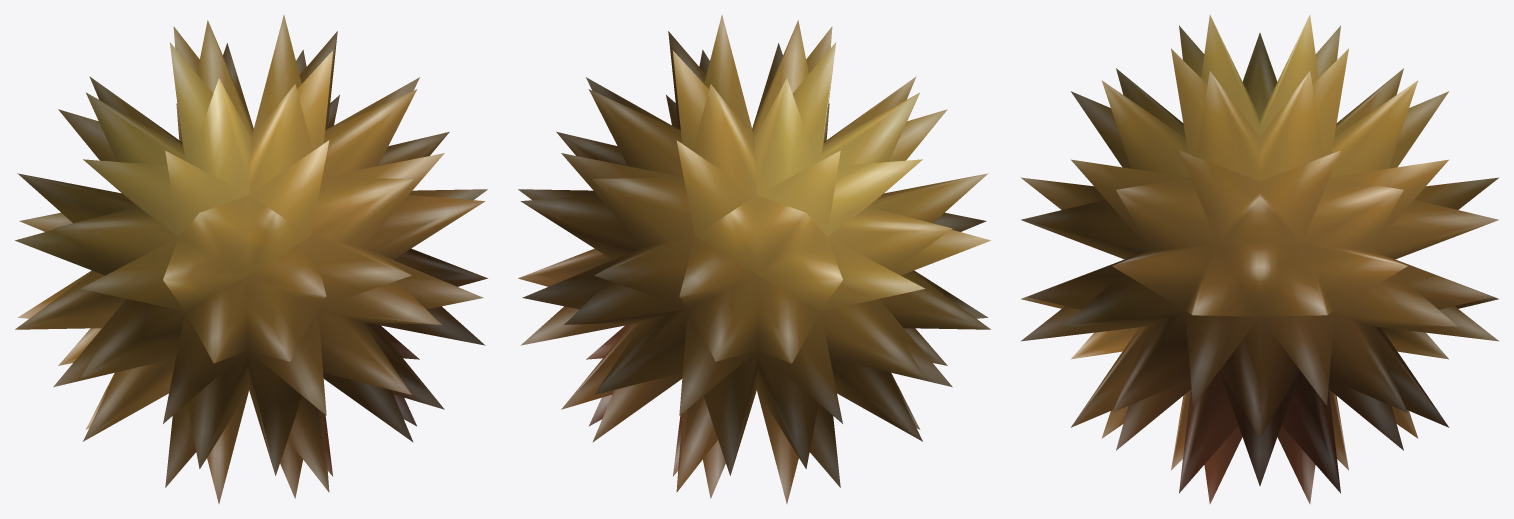
Rendered from Chestnut.obj.
3 views of the same model, side by side, from view 1: azimuth 30°, elevation 25°; view 2: azimuth 150°, elevation 25°; view 3: azimuth 270°, elevation 25° (orthographic).
Parts seen in each view (by area): view 1: igaguri; view 2: igaguri; view 3: igaguri.
Boxes of the visible parts, x1,y1,x2,y2 form: igaguri: (15, 15, 487, 503); igaguri: (518, 15, 990, 503); igaguri: (1021, 15, 1498, 503).
Bounding box in the file's own units: 2.01 × 2.01 × 2.01.
1 material, 1 textured.
